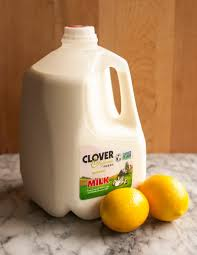milk: (26, 26, 144, 199)
